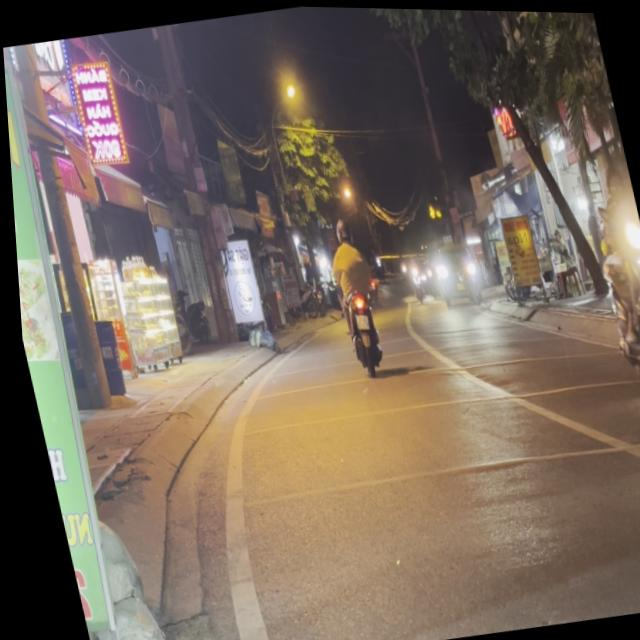helmet: (599, 162, 624, 198)
licenseplate: (573, 158, 640, 396), (315, 211, 389, 375)
nohelmet: (350, 310, 365, 327)
